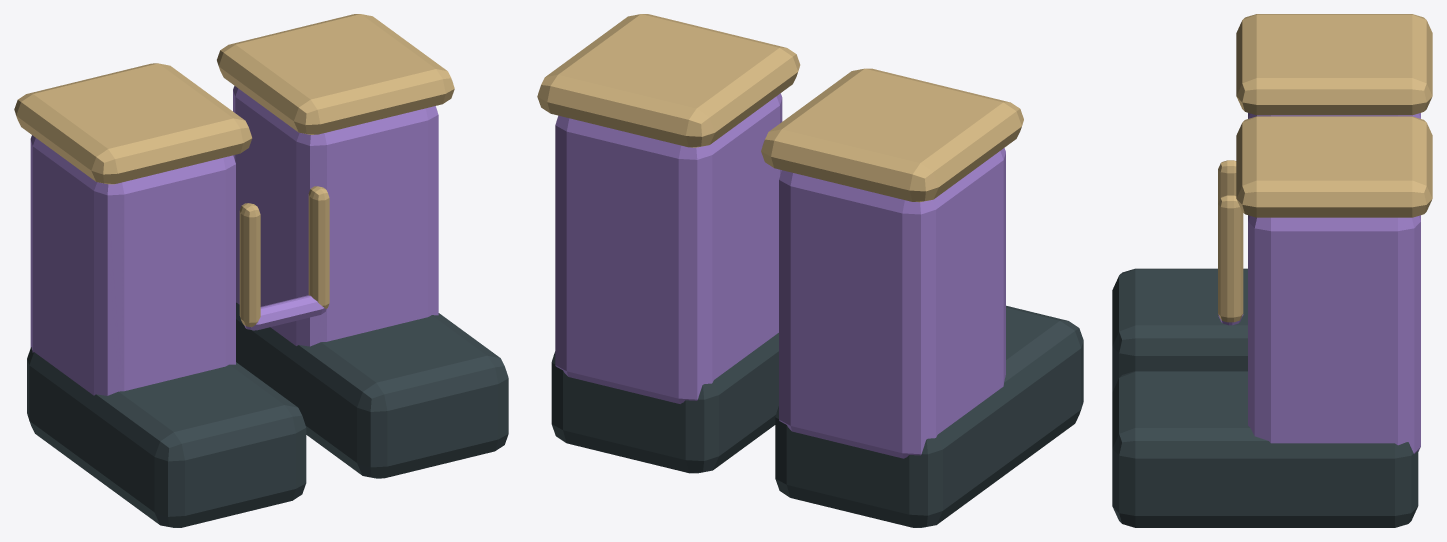
Rendered from arm_echo_boots.glb.
The picture shows the model from 3 angles, left to right: view 1: azimuth 30°, elevation 25°; view 2: azimuth 150°, elevation 25°; view 3: azimuth 270°, elevation 25°; orthographic projection. The views are drawn at different scales.
Visible parts, largest first — view 1: arm_echo_boots; view 2: arm_echo_boots; view 3: arm_echo_boots.
Part boxes in pixels (x1=…): arm_echo_boots: x1=14, y1=14, x2=508, y2=527; arm_echo_boots: x1=537, y1=14, x2=1083, y2=527; arm_echo_boots: x1=1112, y1=14, x2=1432, y2=527.
Bounding box in the file's own units: 0.75 × 0.67 × 0.555.
